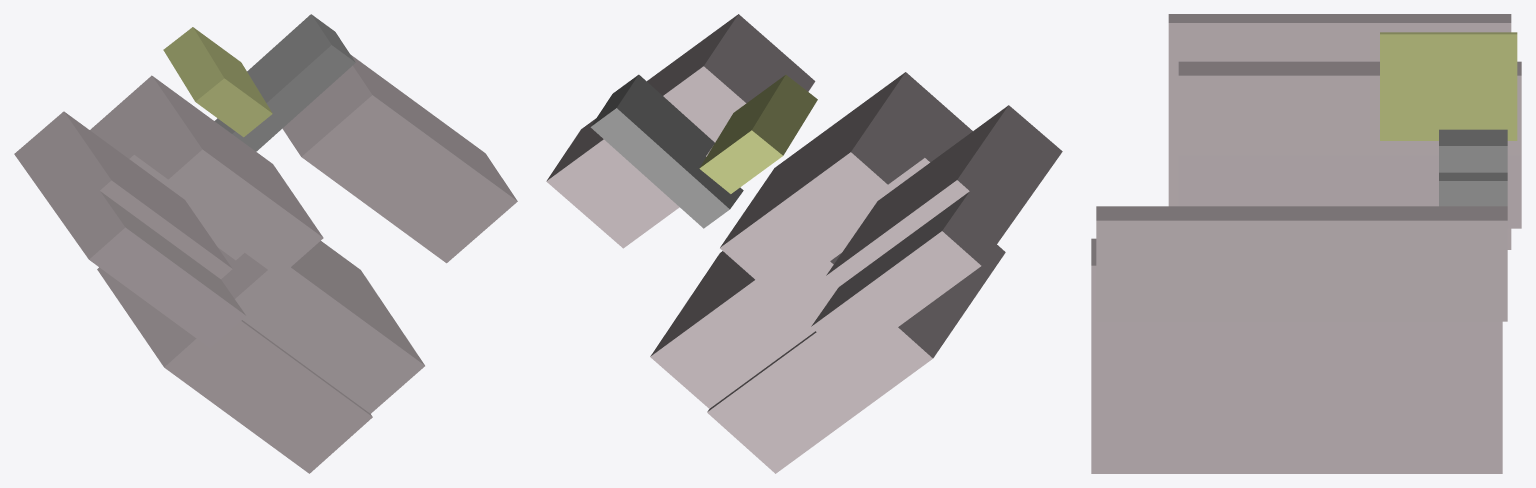
3 renders of one model, left to right at view 1: azimuth 30°, elevation 25°; view 2: azimuth 150°, elevation 25°; view 3: azimuth 270°, elevation 25°, orthographic. The views are drawn at different scales.
Visible parts, largest first — view 1: 0_1_1_3_2_2_3_0_2_0; view 2: 0_1_1_3_2_2_3_0_2_0; view 3: 0_1_1_3_2_2_3_0_2_0.
Boxes of the visible parts, x1=… form: 0_1_1_3_2_2_3_0_2_0: x1=14, y1=14, x2=517, y2=473; 0_1_1_3_2_2_3_0_2_0: x1=546, y1=14, x2=1062, y2=473; 0_1_1_3_2_2_3_0_2_0: x1=1091, y1=14, x2=1521, y2=473.
Bounding box in the file's own units: 25.52 × 22.45 × 18.82.
